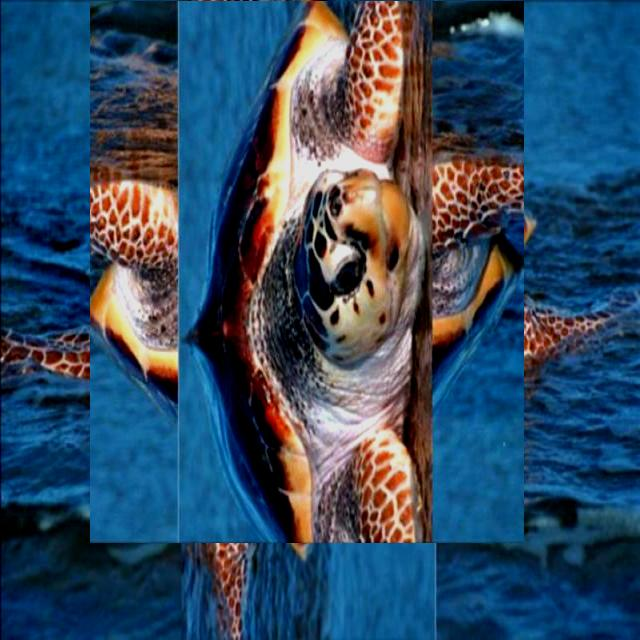Sea turtle: (90, 1, 524, 543)
